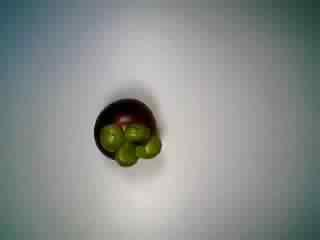mangosteen: (87, 94, 170, 169)
